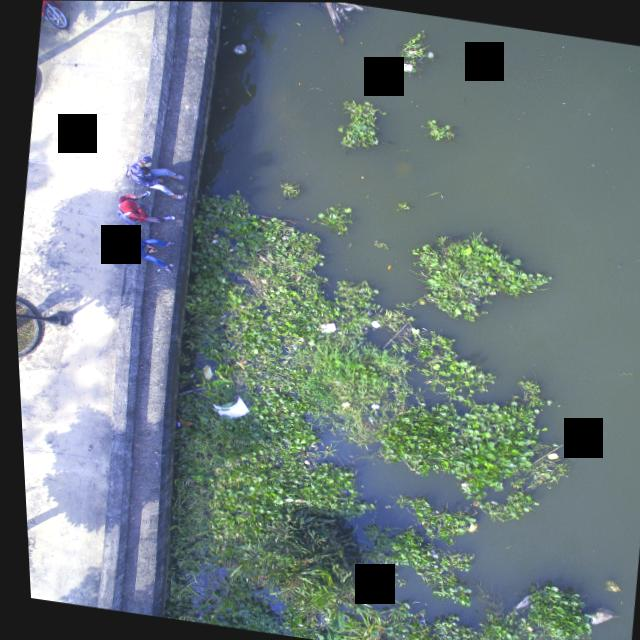plastic: (199, 389, 255, 426), (575, 602, 616, 635), (302, 317, 340, 338), (390, 55, 421, 78), (226, 37, 253, 60), (196, 364, 213, 380), (362, 318, 380, 331), (333, 399, 349, 411), (539, 449, 554, 461), (422, 46, 434, 60), (409, 616, 421, 625), (363, 403, 375, 410), (217, 342, 229, 349), (169, 419, 177, 428), (483, 498, 492, 505), (208, 236, 215, 245), (361, 416, 369, 423)
